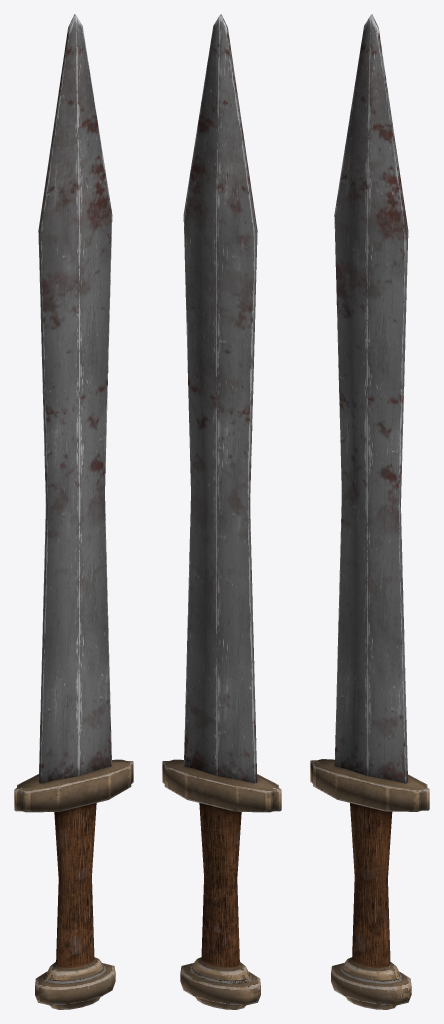
File: Short Sword.gltf
3 views of the same model, side by side, from view 1: azimuth 30°, elevation 25°; view 2: azimuth 150°, elevation 25°; view 3: azimuth 330°, elevation 25° (orthographic).
Parts seen in each view (by area): view 1: Short Sword; view 2: Short Sword; view 3: Short Sword.
Boxes of the visible parts, x1=… form: Short Sword: x1=14, y1=14, x2=133, y2=1009; Short Sword: x1=162, y1=14, x2=281, y2=1009; Short Sword: x1=310, y1=14, x2=429, y2=1009.
Bounding box in the file's own units: 1.19 × 9.54 × 0.4392.
Materials: 1 (1 with a texture image).
